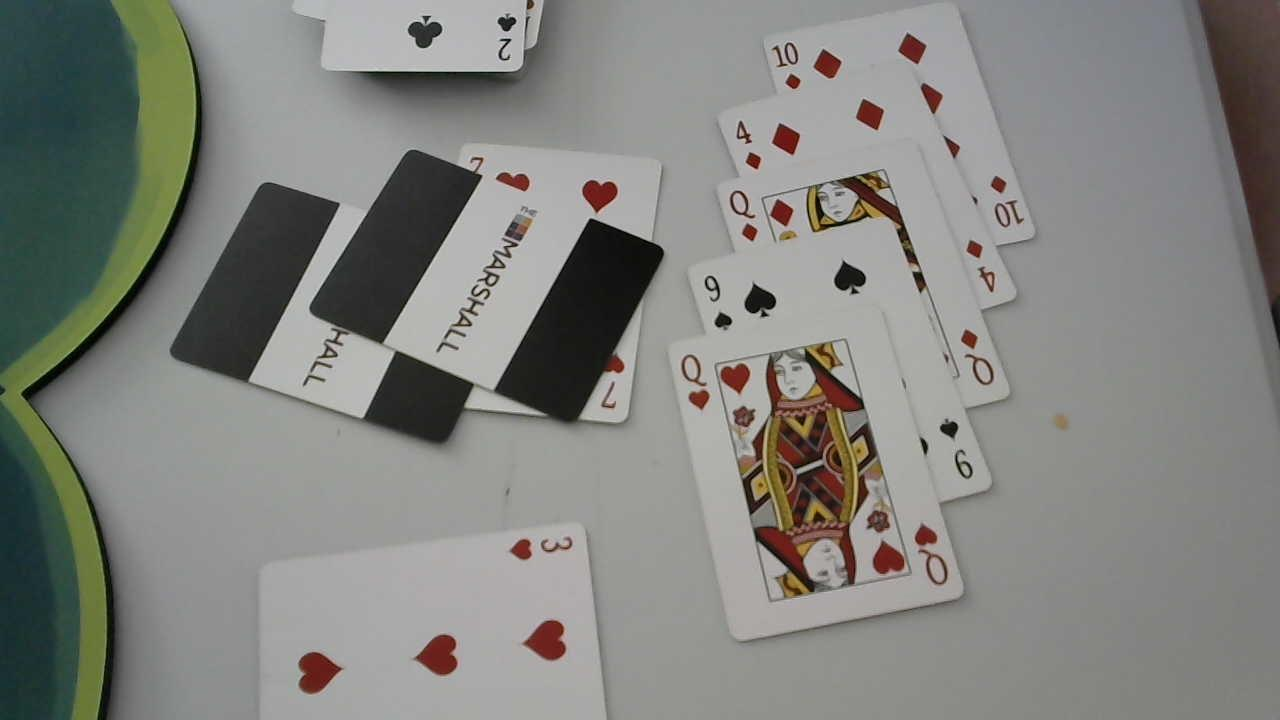10D: (987, 170, 1033, 230), (769, 41, 805, 91)
2C: (495, 9, 520, 64)
3H: (505, 532, 582, 565)
4D: (962, 235, 1000, 295), (730, 117, 764, 175)
7H: (595, 352, 632, 409)
9S: (933, 413, 976, 480), (699, 273, 736, 333)
QD: (956, 324, 997, 386), (725, 188, 761, 252)
QH: (910, 518, 955, 587), (677, 351, 711, 415)
